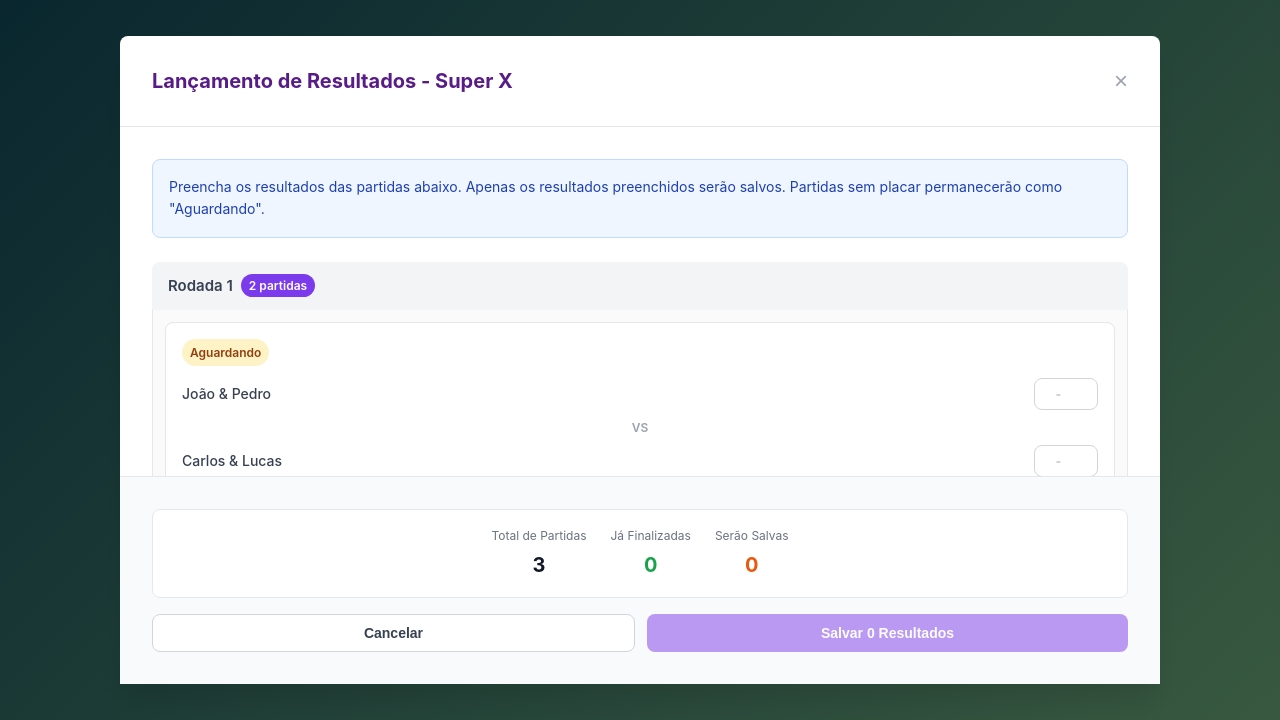
ModalLancamentoResultadosLoteSuperX › entrada de dados › deve atualizar contador de partidas a salvar
Check: the button "Salvar 0 Resultados" is disabled, box [647, 614, 1128, 652]
Preencher uma partida completamente
Type "6" into the number field with placeholder "-" in the row of "Pedro" at (1066, 394), box [1034, 378, 1098, 410]
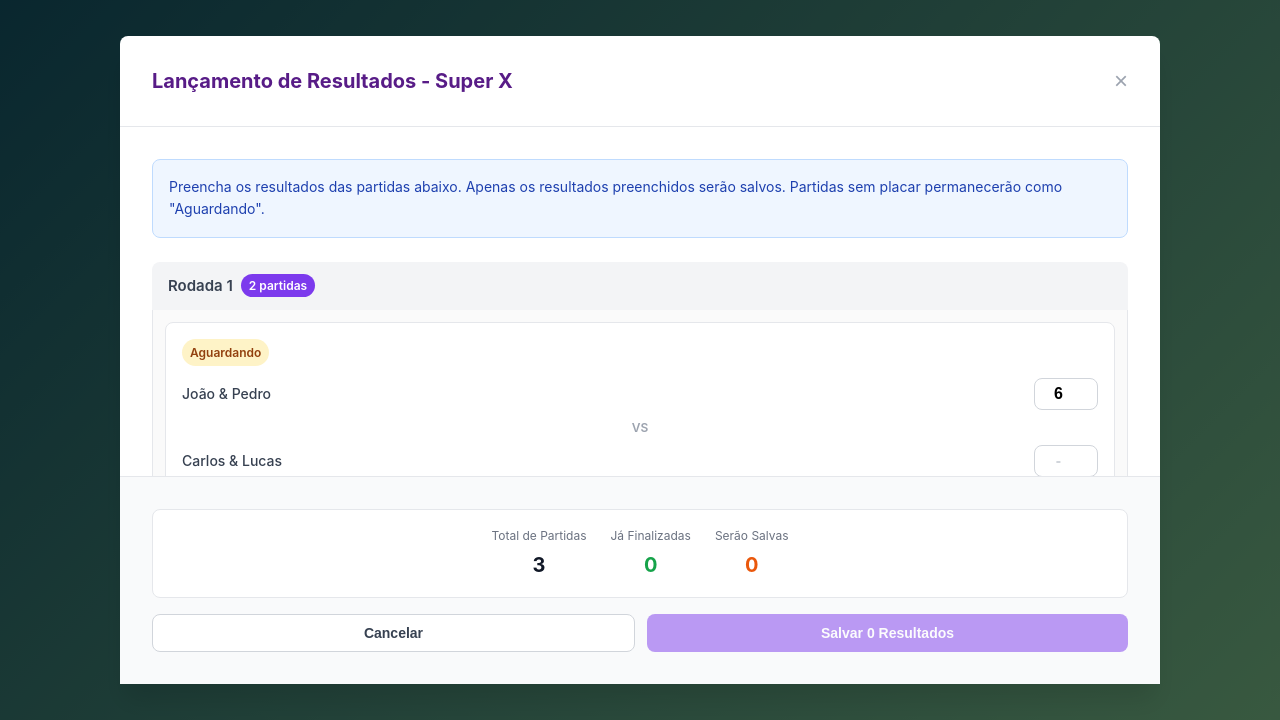
Type "4" into the number field with placeholder "-" at (1066, 461), box [1034, 445, 1098, 477]
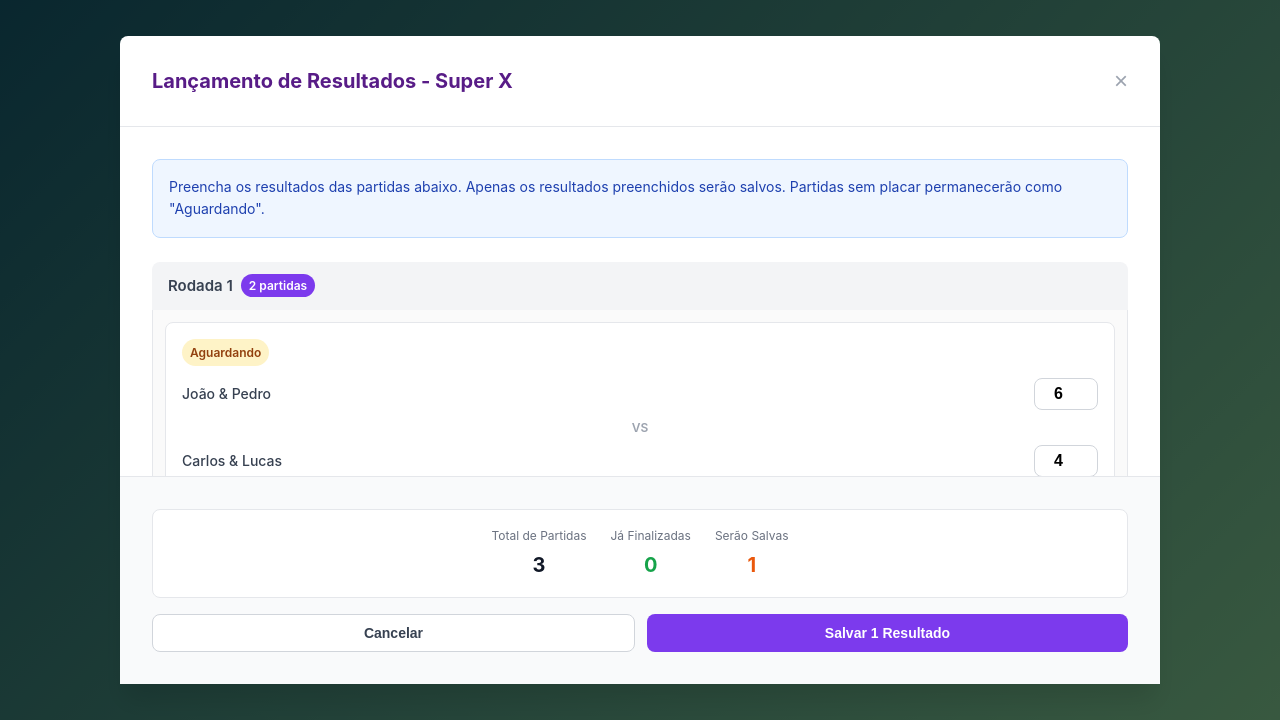
Check: the button "Salvar 1 Resultado" is shown, box [647, 614, 1128, 652]
